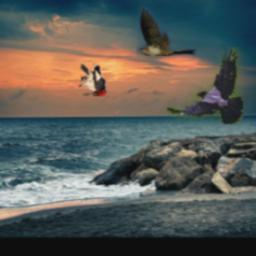Crow: (167, 48, 244, 125)
Cuckoo: (138, 7, 197, 57)
Woodpecker: (76, 63, 106, 96)
